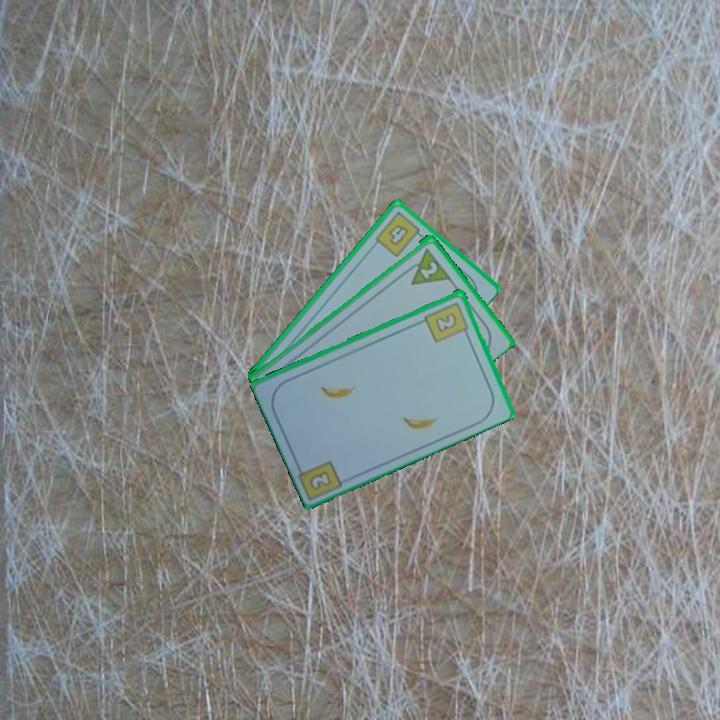2b: (421, 298, 472, 345), (306, 467, 335, 491)
2p: (416, 257, 441, 281)
4b: (371, 208, 427, 260)
